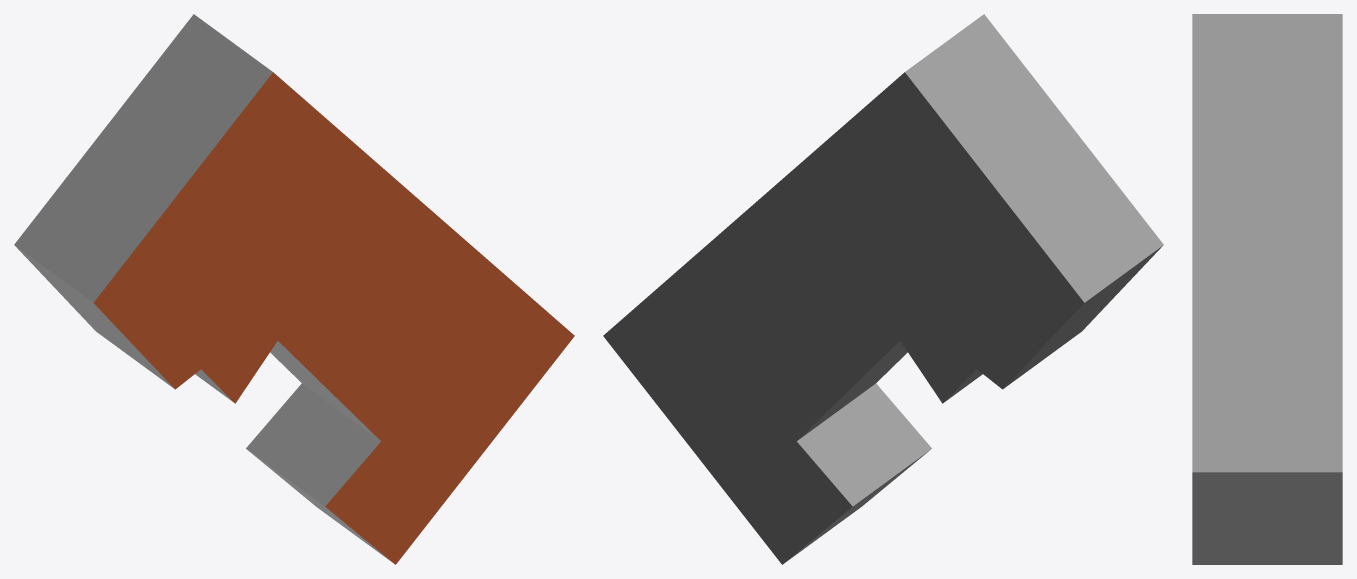
Rendered from construction_2389_assumed_A_Casa_h6m.obj.
The picture shows the model from 3 angles, left to right: view 1: azimuth 30°, elevation 25°; view 2: azimuth 150°, elevation 25°; view 3: azimuth 270°, elevation 25°; orthographic projection. The views are drawn at different scales.
Visible parts, largest first — view 1: construction_2389_assumed_A_Casa; view 2: construction_2389_assumed_A_Casa; view 3: construction_2389_assumed_A_Casa.
Part boxes in pixels (x1=…): construction_2389_assumed_A_Casa: x1=14, y1=14, x2=574, y2=564; construction_2389_assumed_A_Casa: x1=603, y1=14, x2=1163, y2=564; construction_2389_assumed_A_Casa: x1=1192, y1=14, x2=1342, y2=564.
Size of the model in its own units: 21.01 by 21.8 by 6.
